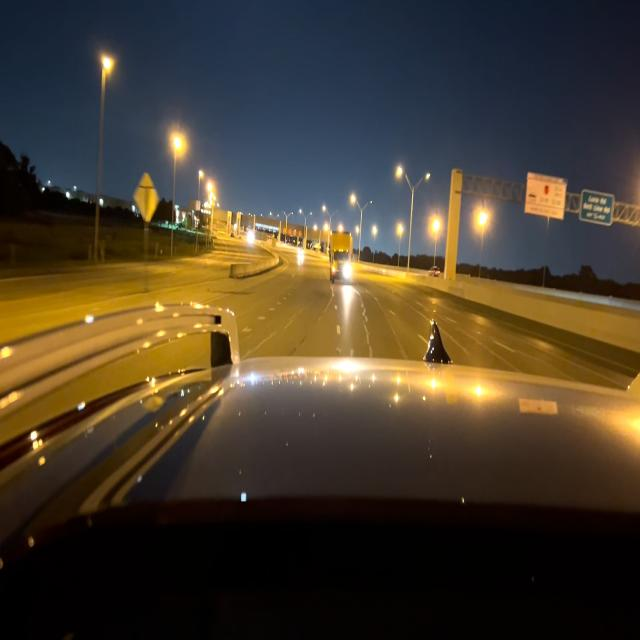back-of-sign: (134, 172, 159, 224)
